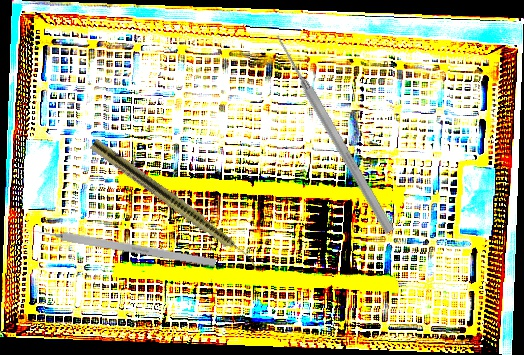Handpiece: (88, 137, 265, 273)
Hook Surgical: (25, 225, 217, 268)
Pusher: (271, 31, 397, 236)
